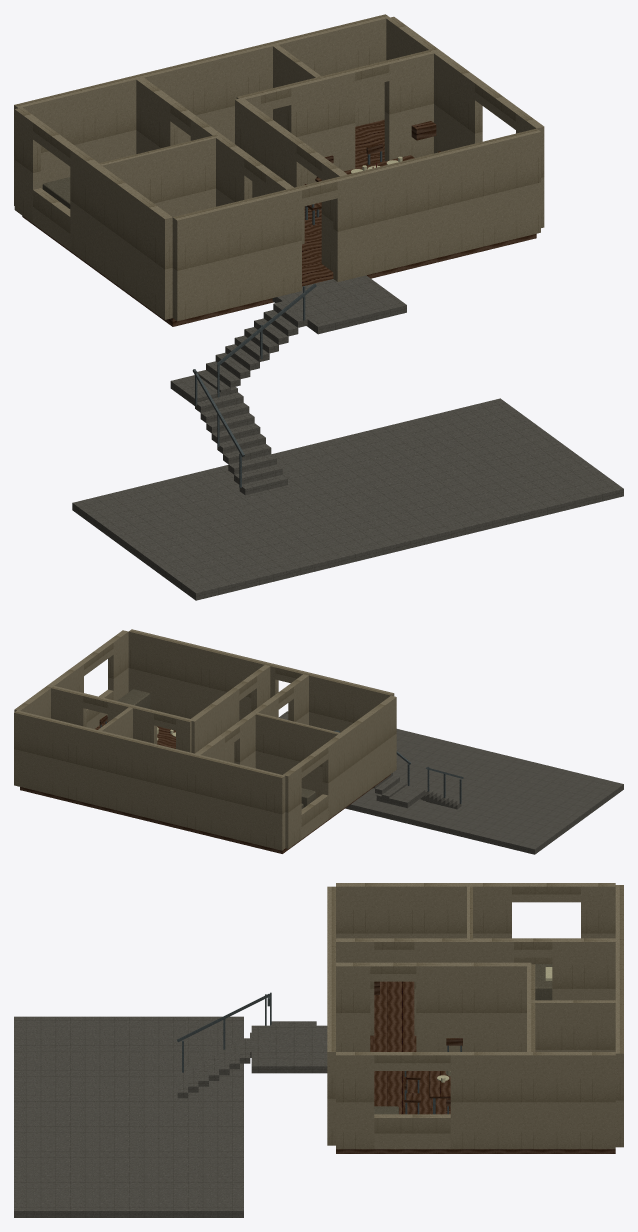
The model's file is apartment.glb.
The picture shows the model from 3 angles, top to bottom: view 1: azimuth 30°, elevation 25°; view 2: azimuth 150°, elevation 25°; view 3: azimuth 270°, elevation 25°; orthographic projection. The views are drawn at different scales.
Parts seen in each view (by area): view 1: Stair.Courtyard, Home.South.001, Home.North, Home.South, Home.West, Home.KitchenBedroom, Home.East.001, Home.StoreDoor.001, Home.Landing, Home.Floor, Home.LivingDoor.001, Home.StoreDoor (+12 smaller); view 2: Home.North, Stair.Courtyard, Home.South.001, Home.West, Home.KitchenBedroom, Home.South, Home.LivingDoor.001, Home.West.001, Home.East.001, Home.Floor, Home.East, Home.StoreDoor.001 (+19 smaller); view 3: Stair.Courtyard, Home.East.001, Home.LivingDoor.001, Home.West, Home.Floor, Home.BathEast, Home.BedroomDoor.001, Home.East, Home.Landing, Home.LivingDoor, Home.East.003, Home.North (+13 smaller).
Boxes of the visible parts, x1,y1,x2,y2 form: Stair.Courtyard: [72, 398, 623, 600]; Home.South.001: [333, 128, 540, 281]; Home.North: [14, 14, 389, 205]; Home.South: [172, 187, 301, 321]; Home.West: [70, 148, 172, 319]; Home.KitchenBedroom: [99, 134, 217, 216]; Home.East.001: [386, 16, 482, 153]; Home.StoreDoor.001: [384, 50, 433, 161]; Home.Landing: [272, 275, 406, 334]; Home.Floor: [22, 119, 536, 326]; Home.LivingDoor.001: [235, 98, 304, 244]; Home.StoreDoor: [319, 69, 355, 171]; Home.North: [14, 710, 285, 850]; Stair.Courtyard: [345, 729, 623, 854]; Home.South.001: [128, 629, 278, 720]; Home.West: [322, 695, 396, 819]; Home.KitchenBedroom: [254, 712, 339, 798]; Home.South: [301, 671, 394, 732]; Home.LivingDoor.001: [189, 687, 239, 762]; Home.West.001: [283, 765, 301, 848]; Home.East.001: [14, 663, 83, 718]; Home.Floor: [20, 720, 390, 853]; Home.East: [108, 630, 128, 700]; Home.StoreDoor.001: [51, 686, 86, 726]; Stair.Courtyard: [14, 1016, 243, 1217]; Home.East.001: [450, 1052, 615, 1149]; Home.LivingDoor.001: [416, 962, 531, 1051]; Home.West: [336, 883, 511, 962]; Home.Floor: [336, 981, 615, 1153]; Home.BathEast: [531, 1000, 615, 1051]; Home.BedroomDoor.001: [552, 938, 615, 1000]; Home.East: [336, 1052, 374, 1149]; Home.Landing: [251, 1025, 327, 1073]; Home.LivingDoor: [336, 962, 370, 1051]; Home.East.003: [374, 1114, 450, 1149]; Home.North: [615, 885, 623, 1147].
Size of the model in its own units: 14.62 by 5.9 by 15.92.
8 materials, 8 textured.
